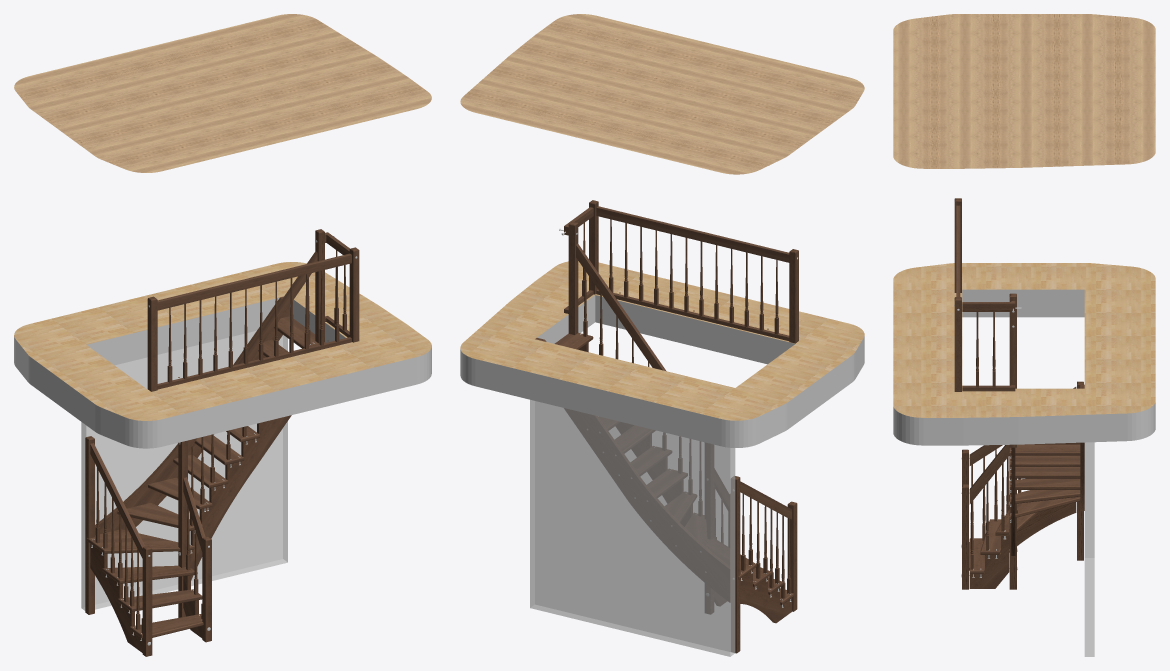
File: XML_DXF18.dae
The picture shows the model from 3 angles, left to right: view 1: azimuth 30°, elevation 25°; view 2: azimuth 150°, elevation 25°; view 3: azimuth 270°, elevation 25°; orthographic projection.
Visible parts, largest first — view 1: StairCon (×28); view 2: StairCon (×19); view 3: StairCon (×26).
Boxes of the visible parts, x1=… form: StairCon (×28): x1=14, y1=14, x2=431, y2=656; StairCon (×19): x1=460, y1=14, x2=864, y2=656; StairCon (×26): x1=893, y1=14, x2=1155, y2=656.
Size of what is drawn, in the model's own units: 3.6 by 2.58 by 5.61.
Materials: 14 (8 with a texture image).
